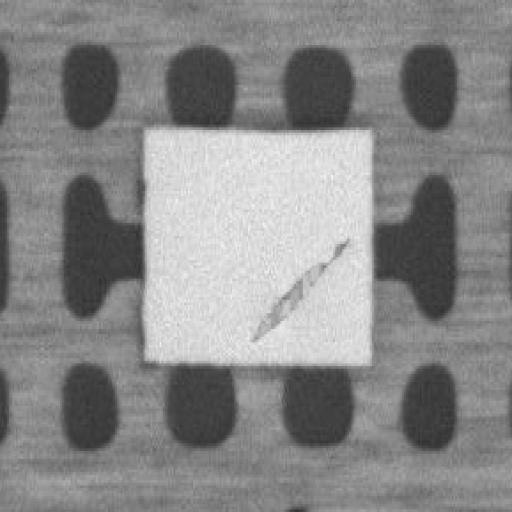DIE_INK: (358, 146, 512, 233)
